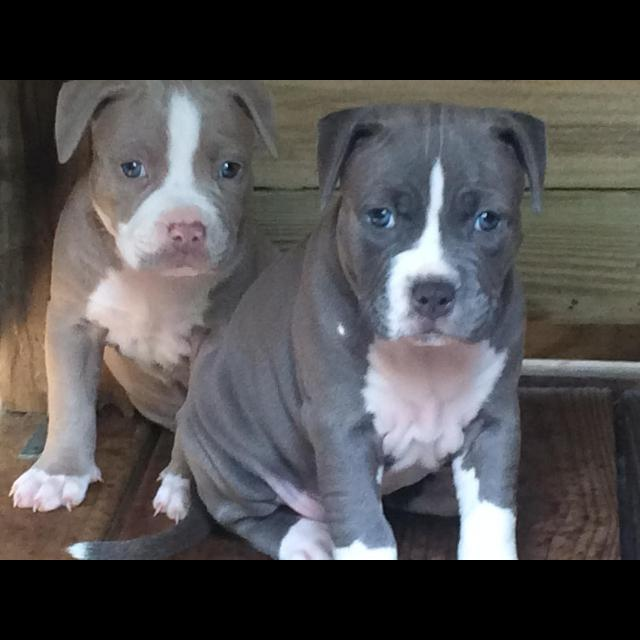am_pit_bull_terrier: (67, 103, 547, 561), (9, 82, 283, 519)
